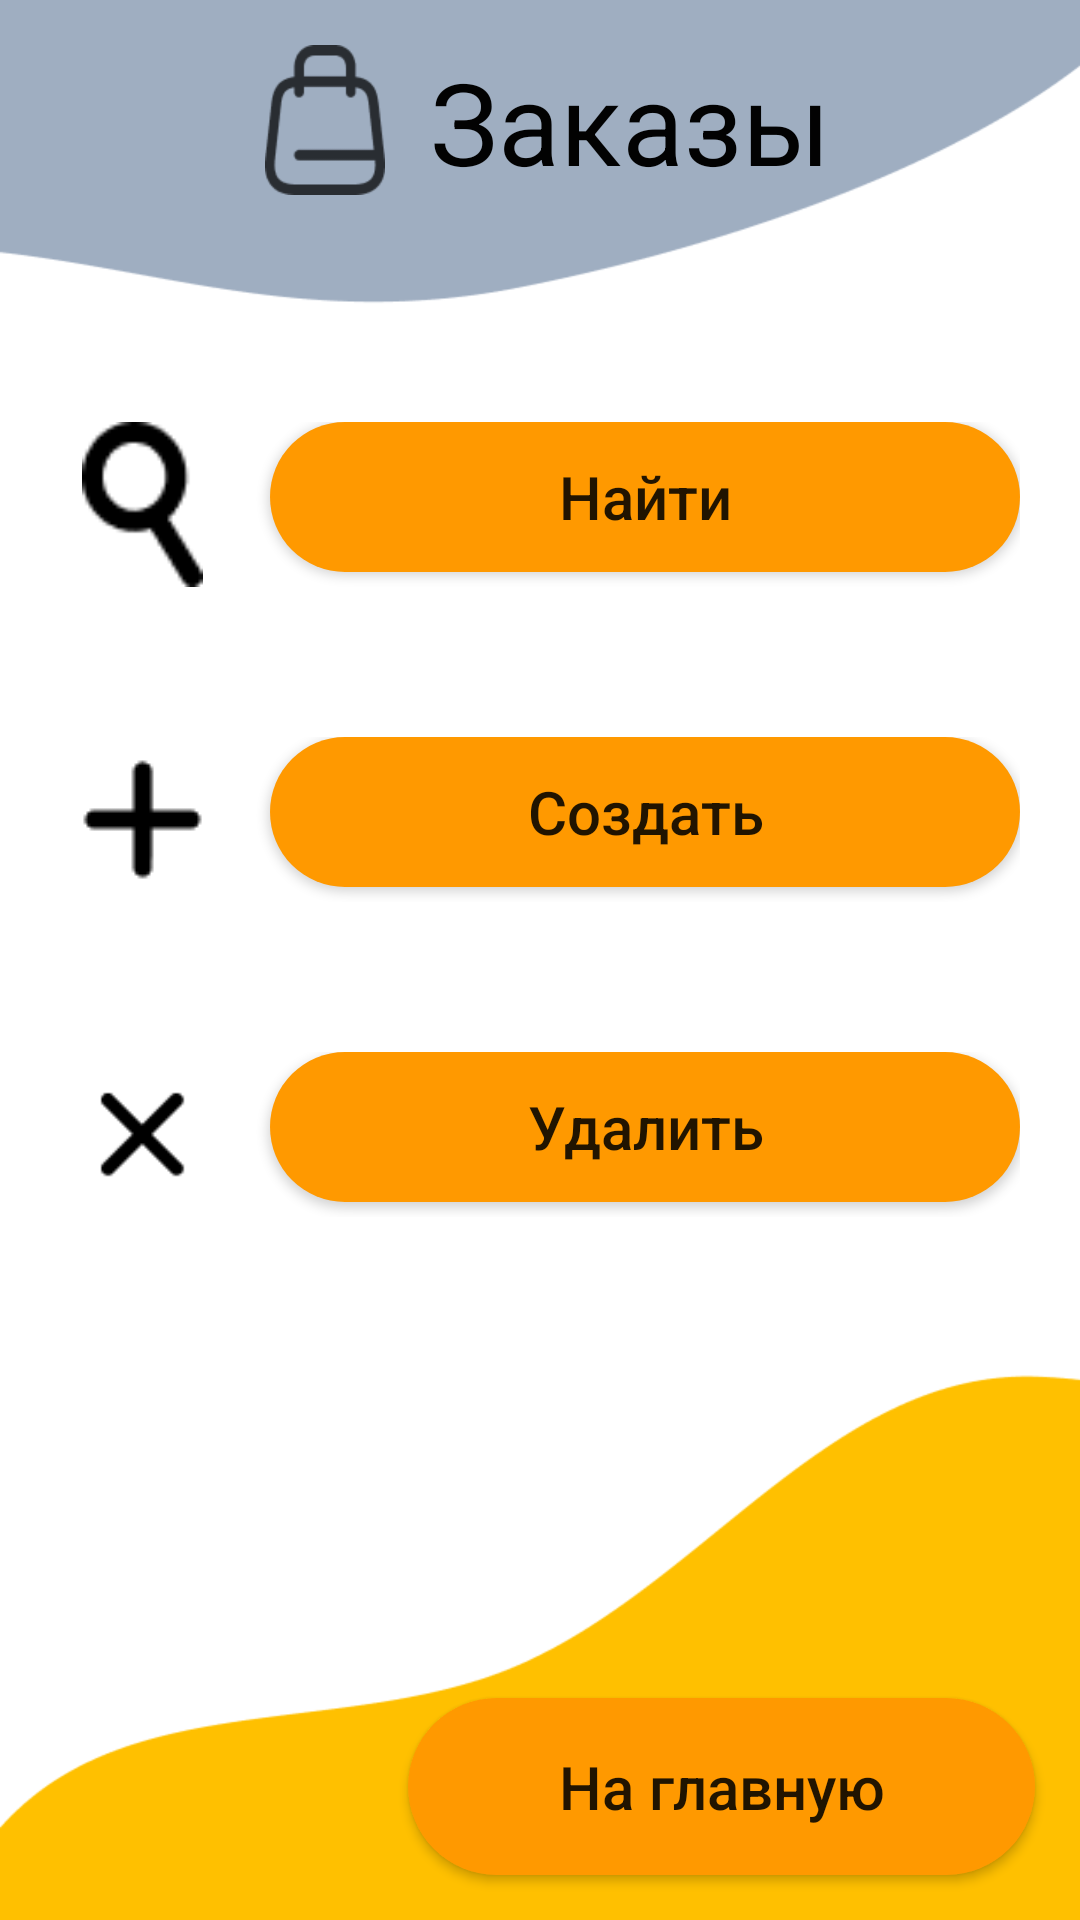

Icons on this 1080px×1920px Android screen, each with the point to tap as (x,y):
delete: (142,1134)
plus: (142,819)
search: (142,504)
store: (325,120)
